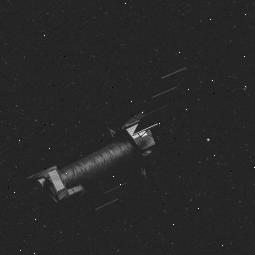xmm_newton: (27, 71, 193, 203)
